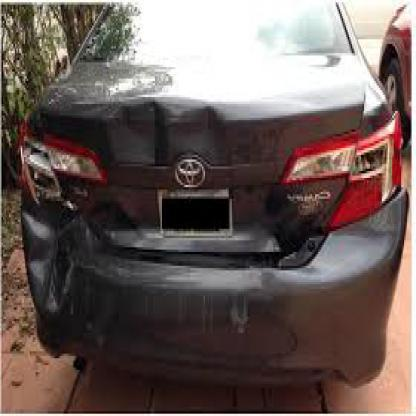dent: (28, 212, 70, 308), (148, 97, 234, 143)
